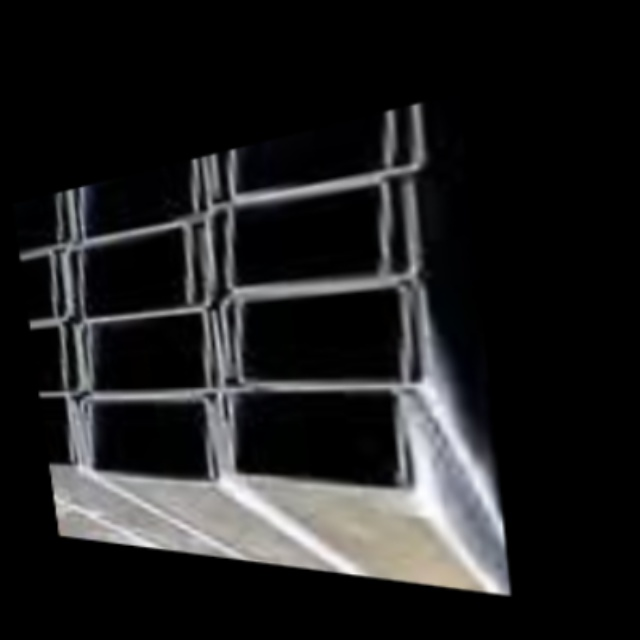Shveller: (222, 182, 421, 293), (206, 178, 391, 292), (231, 286, 429, 391), (222, 282, 409, 385), (226, 105, 422, 203), (227, 397, 416, 489), (219, 391, 403, 483), (214, 111, 397, 198), (75, 227, 217, 320), (64, 223, 195, 311), (76, 157, 209, 240), (83, 315, 223, 391), (80, 397, 214, 476), (76, 313, 213, 390), (70, 159, 202, 238), (84, 407, 220, 482)
